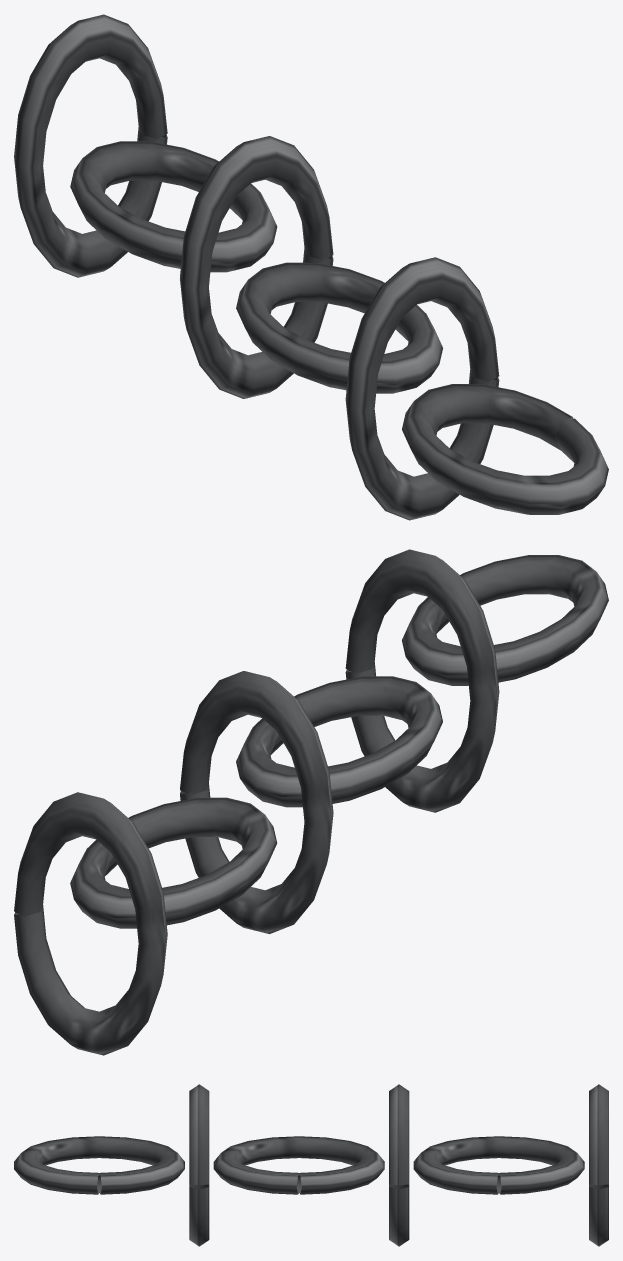
Rendered from SM_Chain.glb.
The picture shows the model from 3 angles, top to bottom: view 1: azimuth 30°, elevation 25°; view 2: azimuth 150°, elevation 25°; view 3: azimuth 270°, elevation 25°; orthographic projection. The views are drawn at different scales.
Visible parts, largest first — view 1: SM_Chain; view 2: SM_Chain; view 3: SM_Chain.
Boxes of the visible parts, x1=… form: SM_Chain: x1=14, y1=14, x2=608, y2=520; SM_Chain: x1=14, y1=549, x2=608, y2=1055; SM_Chain: x1=14, y1=1084, x2=608, y2=1246.
Size of the model in its own units: 0.1977 by 0.325 by 1.13.
1 material, 1 textured.
